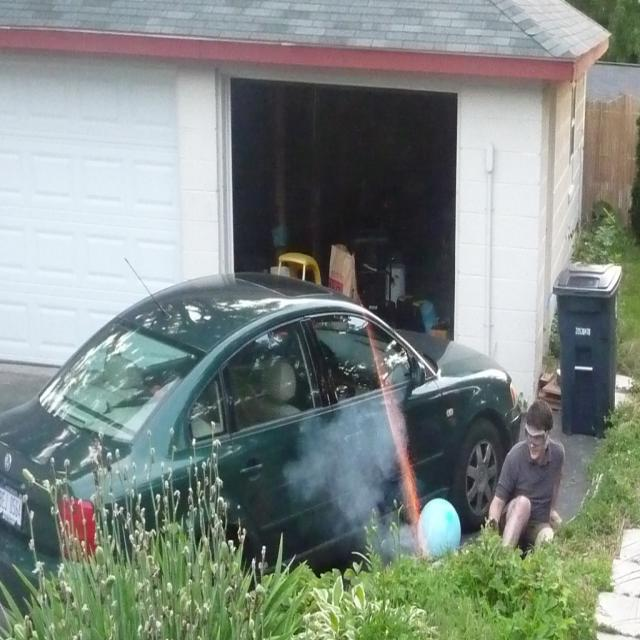car: (11, 254, 556, 614)
